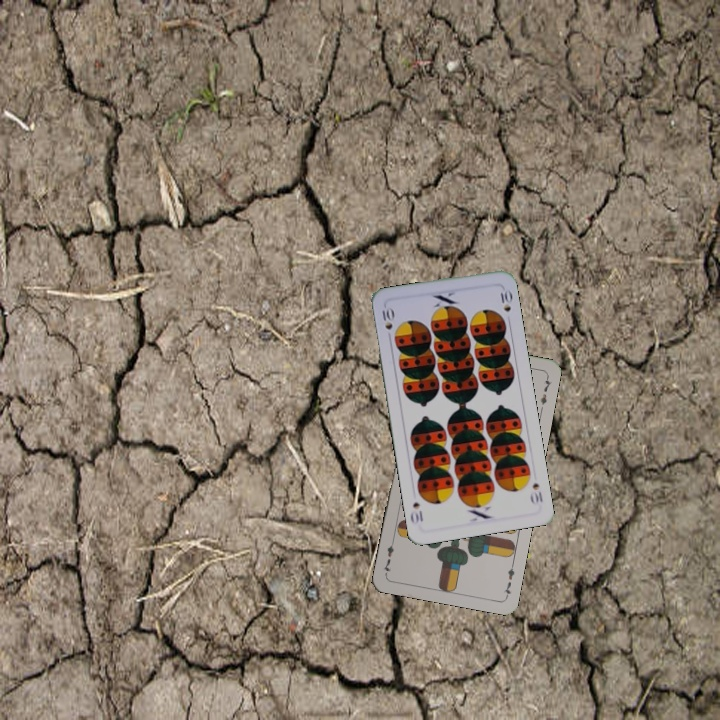E7: (500, 559, 517, 599)
S10: (378, 304, 395, 343), (526, 479, 545, 507)
